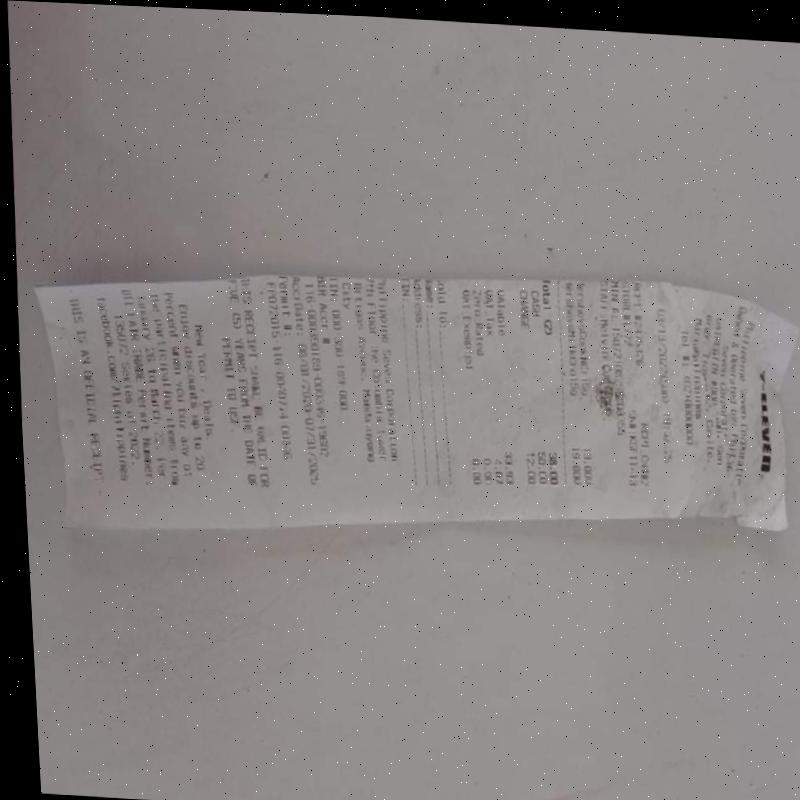paper: (33, 273, 800, 537)
